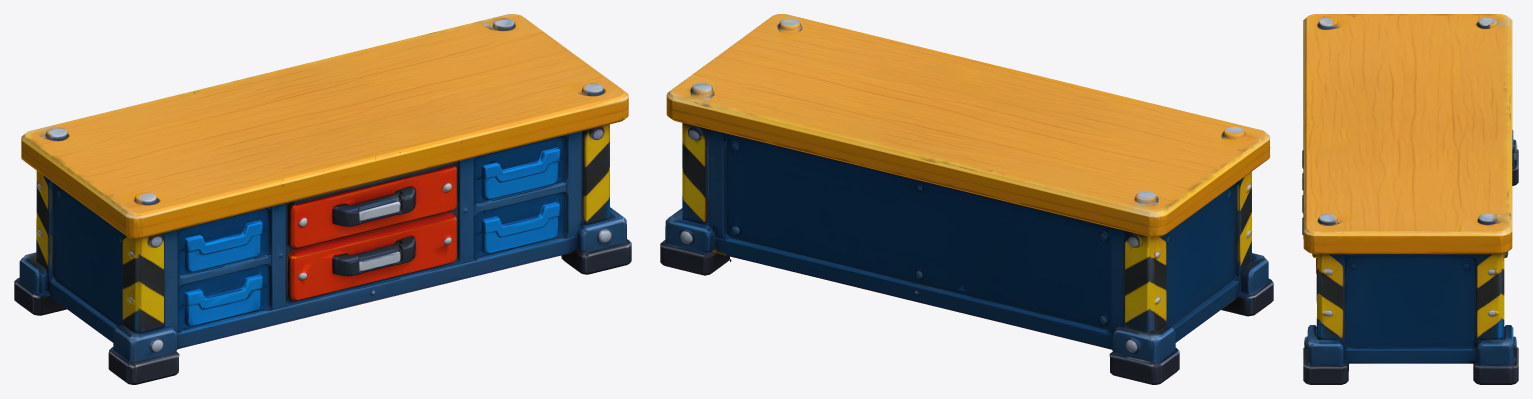
File: table.fbx
3 renders of one model, left to right at view 1: azimuth 30°, elevation 25°; view 2: azimuth 150°, elevation 25°; view 3: azimuth 270°, elevation 25°, orthographic. The views are drawn at different scales.
Visible parts, largest first — view 1: node_0; view 2: node_0; view 3: node_0.
Part boxes in pixels (box(x1,y1,x2,y2)): node_0: box(14, 14, 631, 384); node_0: box(660, 14, 1273, 384); node_0: box(1302, 14, 1518, 384).
Size of the model in its own units: 107 by 35.25 by 44.29.
Materials: 1 (1 with a texture image).
